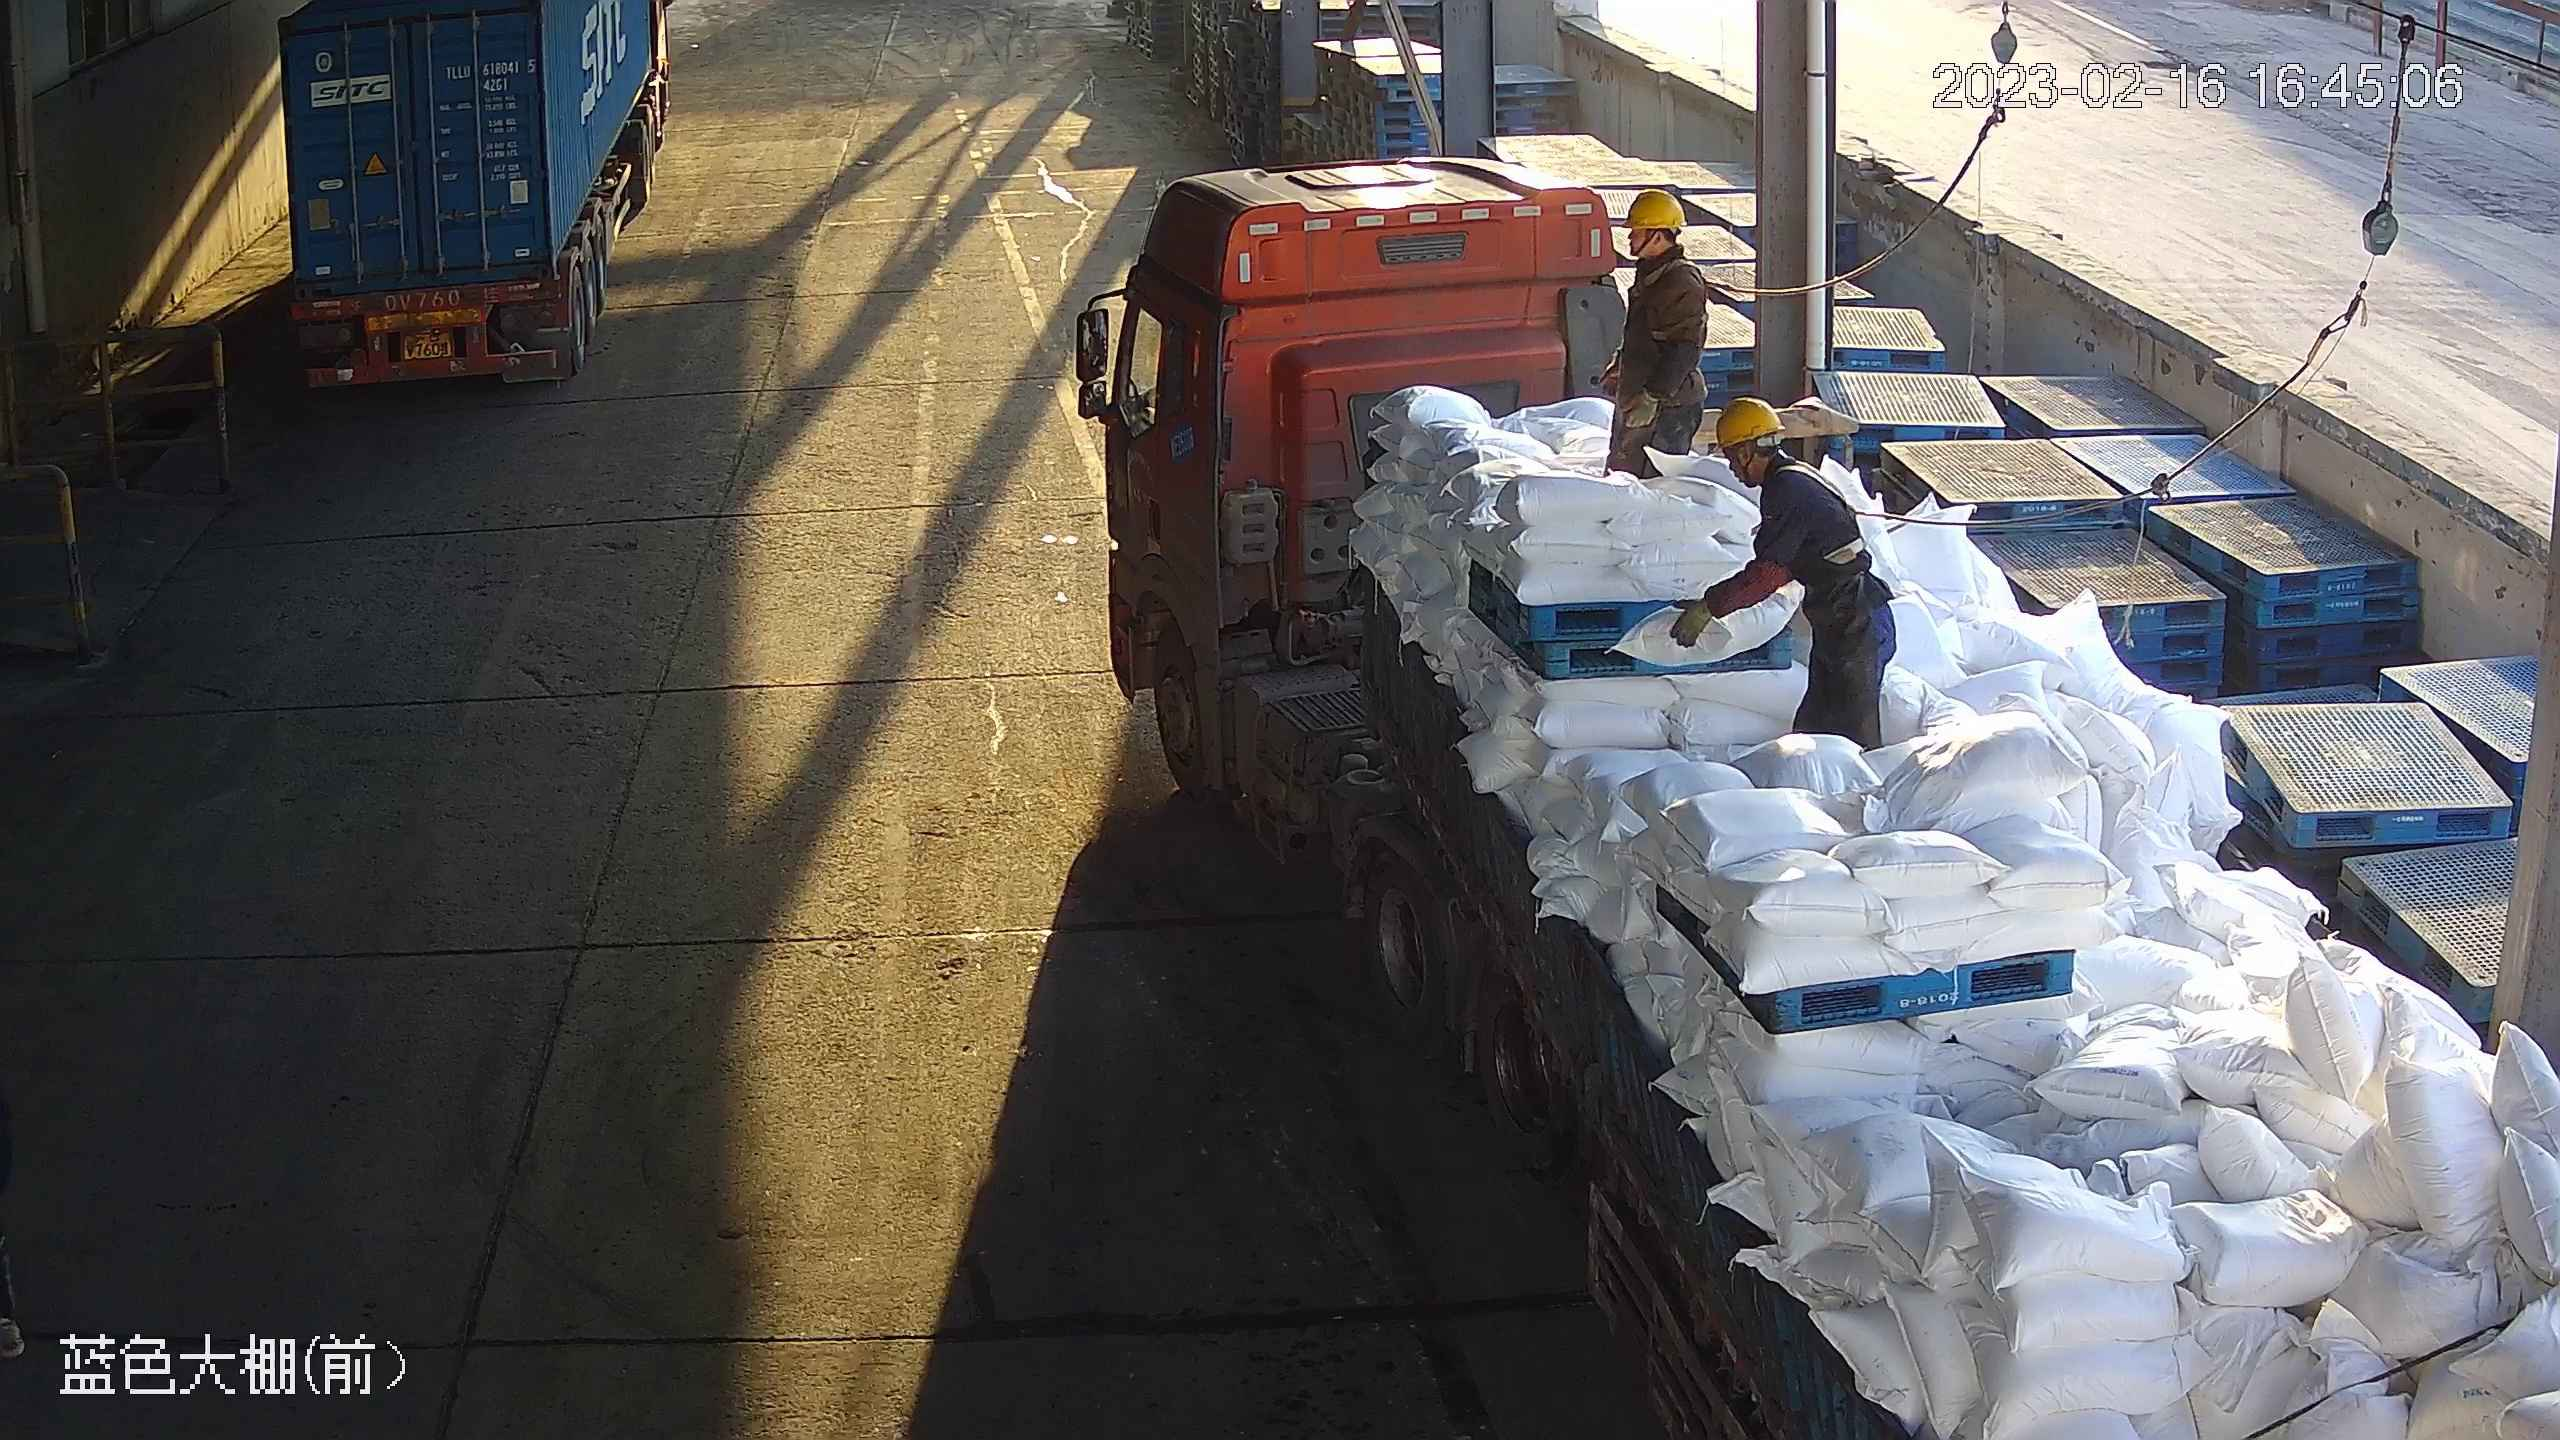belt: (1755, 455, 1898, 568), (1626, 257, 1741, 345)
head: (1716, 395, 1849, 505), (1610, 188, 1709, 304)
helmet: (1713, 396, 1785, 451), (1621, 189, 1688, 231)
people: (1670, 395, 1899, 756), (1603, 187, 1709, 481)
truck: (1105, 154, 2560, 1440)
